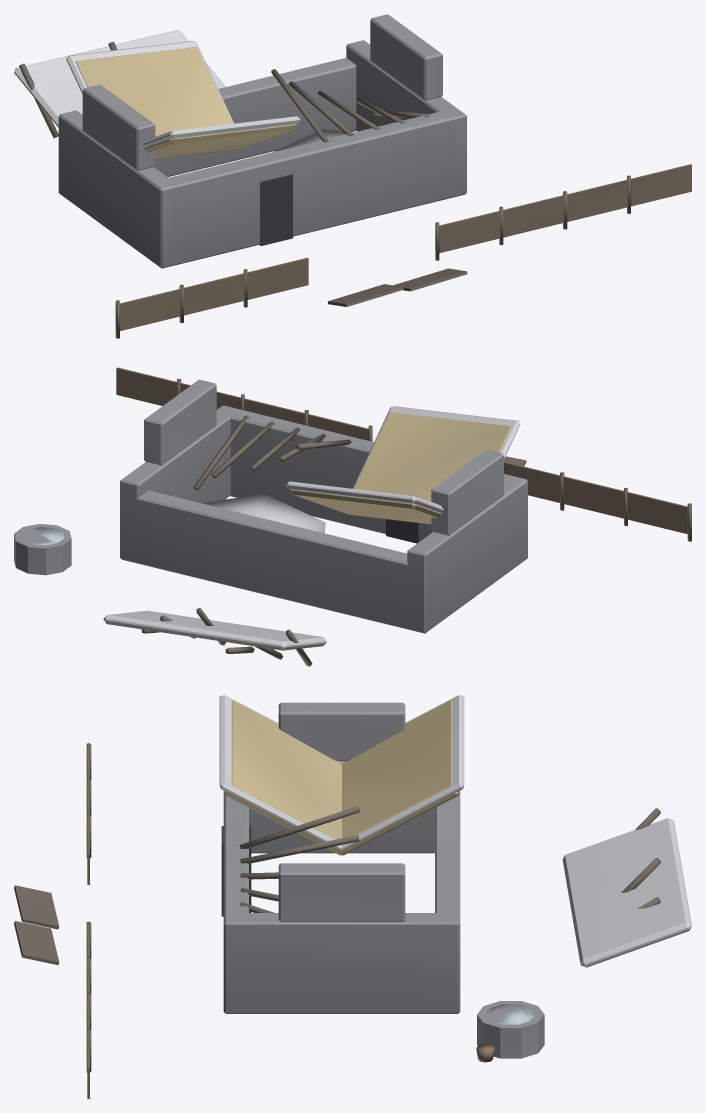
Rendered from farmstead.glb.
The picture shows the model from 3 angles, top to bottom: view 1: azimuth 30°, elevation 25°; view 2: azimuth 150°, elevation 25°; view 3: azimuth 270°, elevation 25°; orthographic projection. The views are drawn at different scales.
Parts seen in each view (by area): view 1: farmstead; view 2: farmstead; view 3: farmstead.
Boxes of the visible parts, box(x1,y1,x2,y2) form: farmstead: box(14, 14, 691, 338); farmstead: box(14, 367, 691, 666); farmstead: box(14, 695, 691, 1098).
Size of the model in its own units: 18.01 by 4.73 by 16.06.
